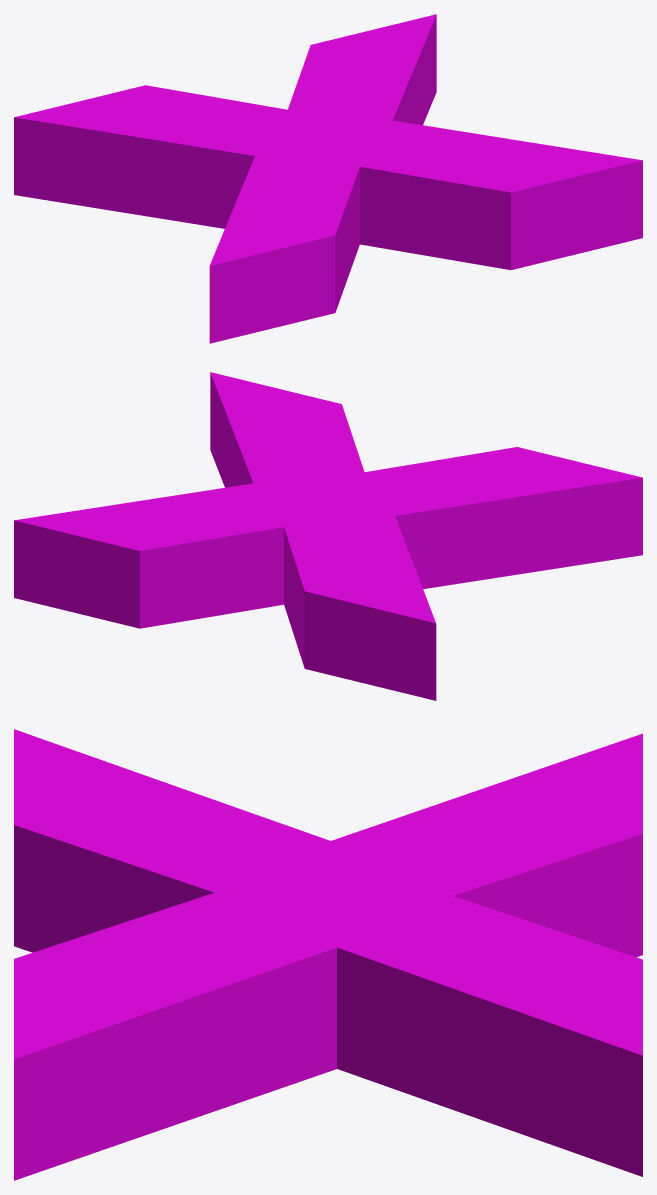
3 renders of one model, top to bottom at view 1: azimuth 30°, elevation 25°; view 2: azimuth 150°, elevation 25°; view 3: azimuth 270°, elevation 25°, orthographic. The views are drawn at different scales.
Parts seen in each view (by area): view 1: Trim_Char_X_5_2; view 2: Trim_Char_X_5_2; view 3: Trim_Char_X_5_2.
Part boxes in pixels (left/top/right/bottom): Trim_Char_X_5_2: left=14, top=14, right=642, bottom=343; Trim_Char_X_5_2: left=14, top=372, right=642, bottom=700; Trim_Char_X_5_2: left=14, top=729, right=642, bottom=1180.
Bounding box in the file's own units: 1.22 × 0.2082 × 0.9779.
